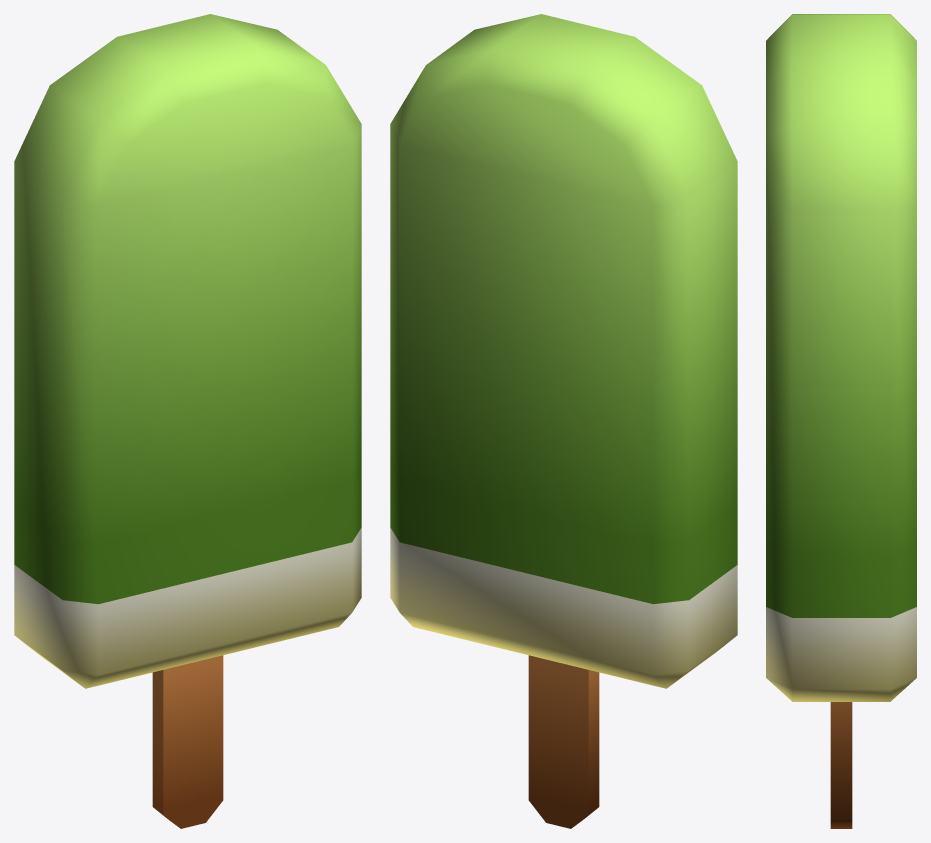
Rendered from m_SimplePopsicle05.fbx.
3 renders of one model, left to right at view 1: azimuth 30°, elevation 25°; view 2: azimuth 150°, elevation 25°; view 3: azimuth 270°, elevation 25°, orthographic.
Visible parts, largest first — view 1: m_SimplePopsicle05; view 2: m_SimplePopsicle05; view 3: m_SimplePopsicle05.
Boxes of the visible parts, left/top/right/bottom form: m_SimplePopsicle05: left=14, top=14, right=361, bottom=828; m_SimplePopsicle05: left=390, top=14, right=737, bottom=828; m_SimplePopsicle05: left=766, top=14, right=916, bottom=828.
Size of the model in its own units: 9.24 by 22.99 by 4.
